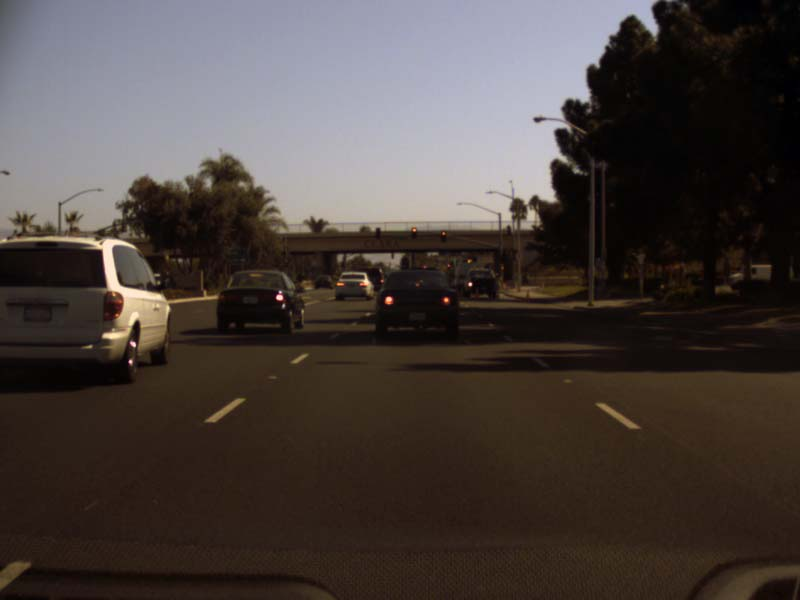Red: (411, 227, 417, 239), (440, 230, 446, 242)
